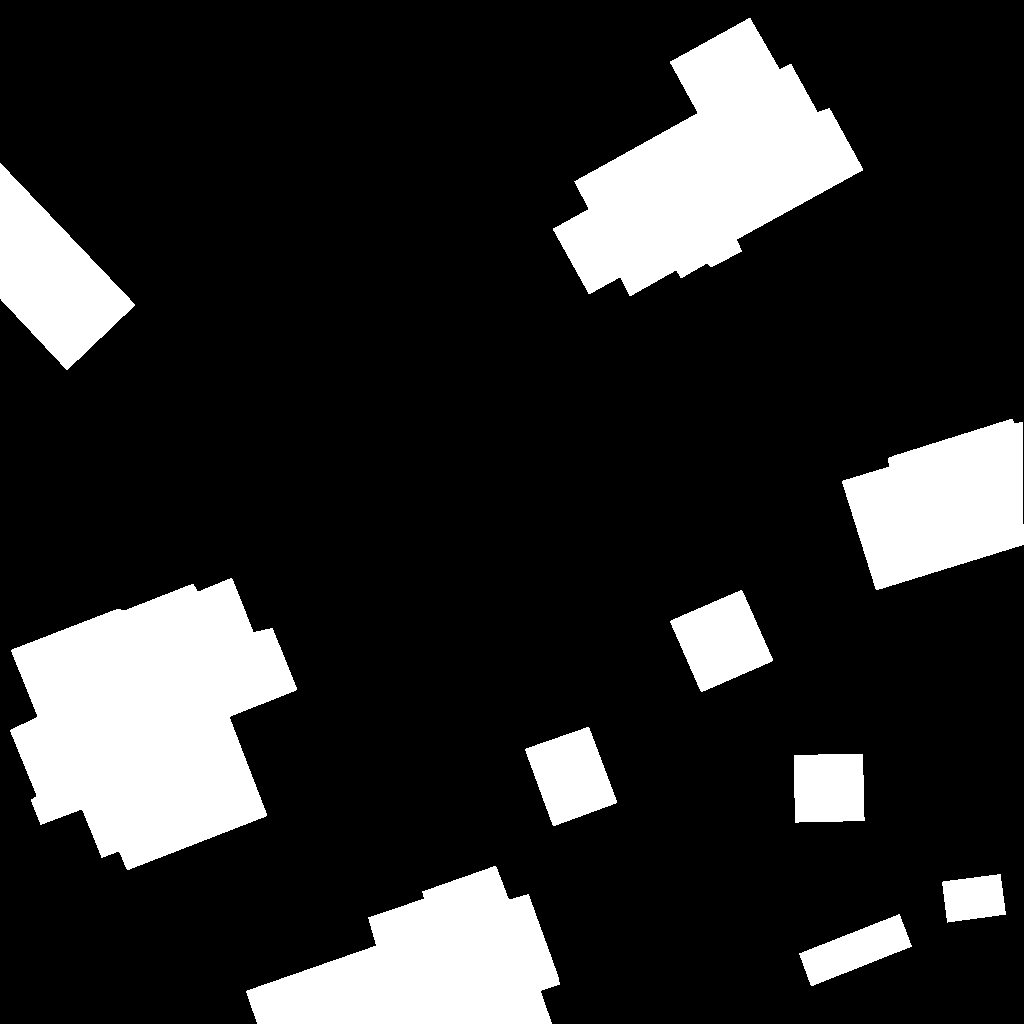building: (553, 18, 864, 297), (10, 578, 298, 871), (246, 866, 561, 1024), (842, 419, 1024, 591), (0, 163, 136, 371), (670, 590, 774, 693), (525, 727, 618, 827), (799, 914, 913, 987), (794, 754, 865, 823), (942, 874, 1007, 923)
